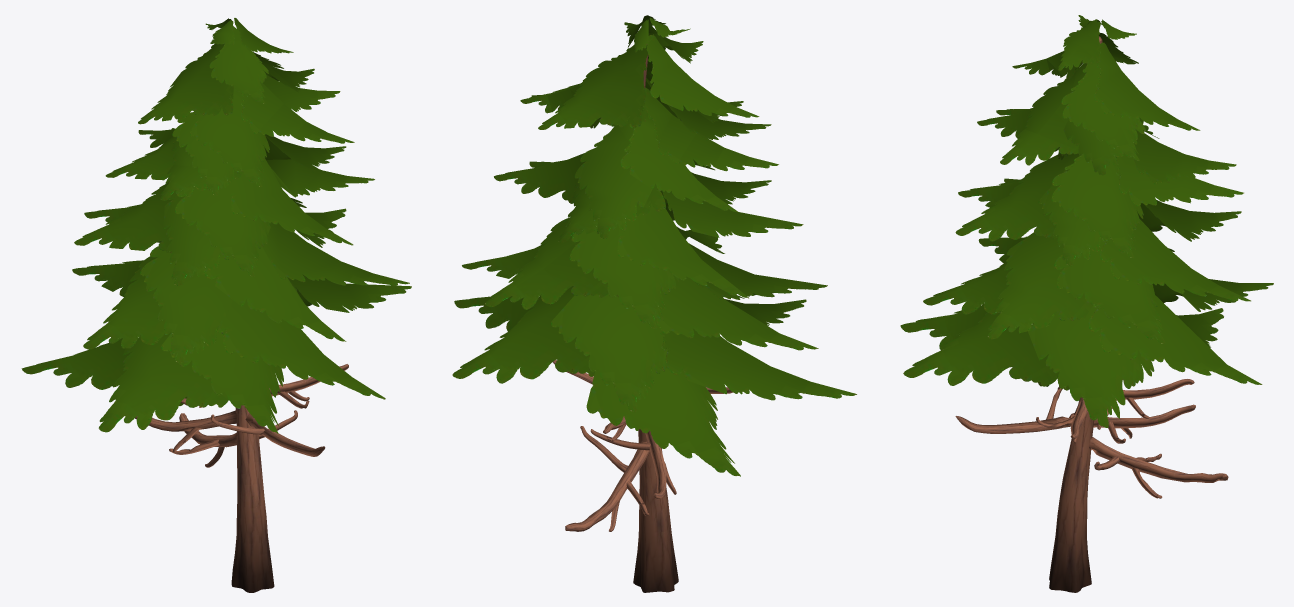
Rendered from prop_pine_1.glb.
3 renders of one model, left to right at view 1: azimuth 30°, elevation 25°; view 2: azimuth 150°, elevation 25°; view 3: azimuth 270°, elevation 25°, orthographic. The views are drawn at different scales.
Visible parts, largest first — view 1: Pine_1; view 2: Pine_1; view 3: Pine_1.
Boxes of the visible parts, <box> form: Pine_1: <box>21,18,411,592</box>; Pine_1: <box>452,15,856,592</box>; Pine_1: <box>900,15,1273,592</box>.
Bounding box in the file's own units: 4.94 × 7.32 × 4.54.
2 materials, 2 textured.
